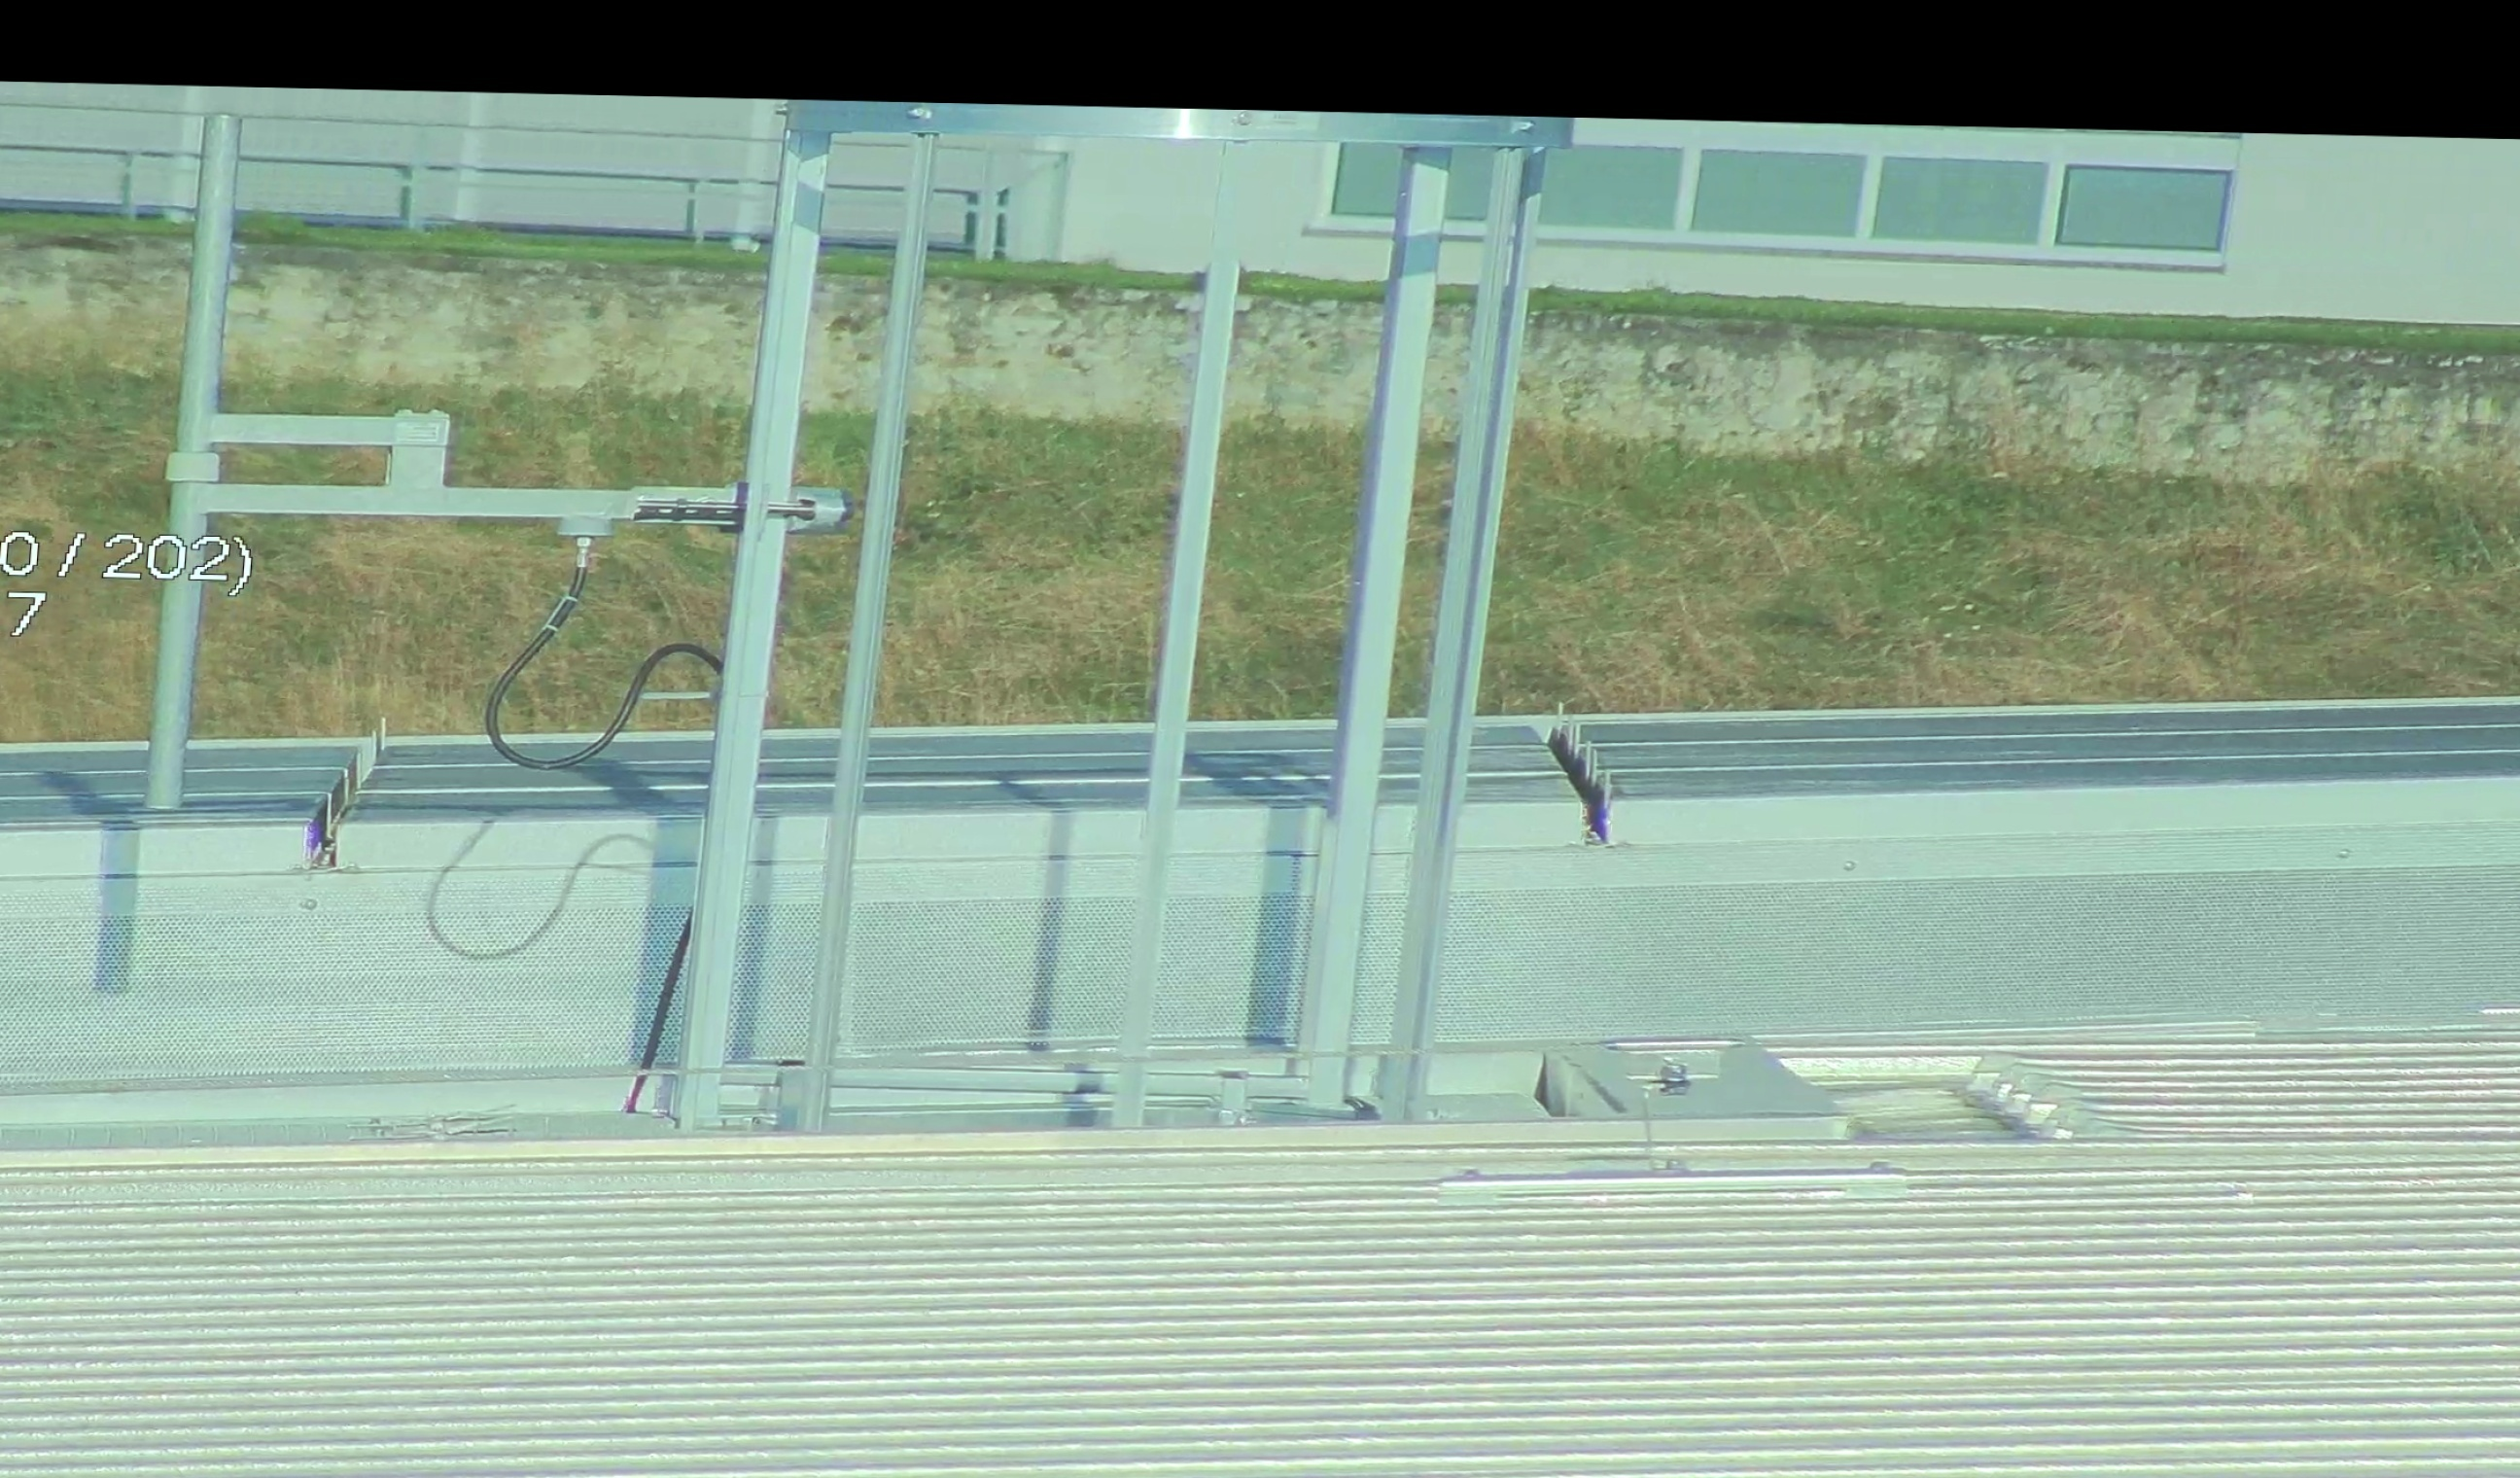Other: (1514, 706, 1648, 846)
